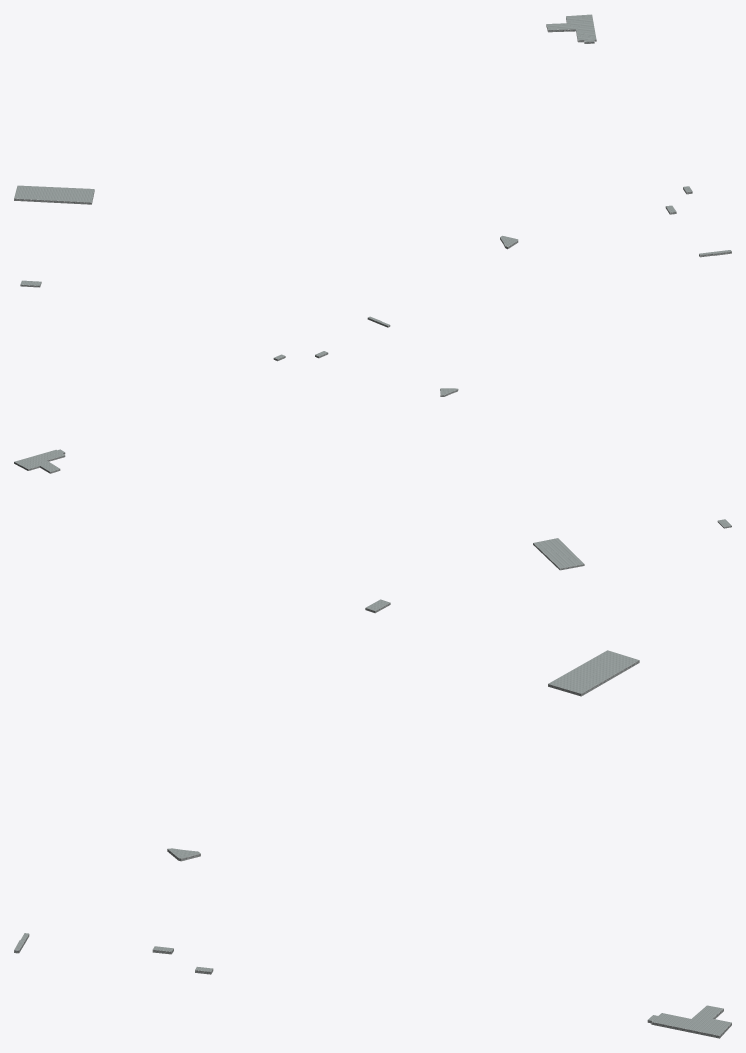
3 renders of one model, top to bottom at view 1: azimuth 30°, elevation 25°; view 2: azimuth 150°, elevation 25°; view 3: azimuth 270°, elevation 25°, orthographic. The views are drawn at different scales.
Visible parts, largest first — view 1: SheetRoof, ServiceWall; view 2: SheetRoof, ServiceWall; view 3: SheetRoof, ServiceWall.
Boxes of the visible parts, left/top/right/bottom form: SheetRoof: left=14, top=14, right=731, bottom=285; ServiceWall: left=14, top=18, right=731, bottom=287; SheetRoof: left=14, top=316, right=731, bottom=568; ServiceWall: left=14, top=318, right=731, bottom=570; SheetRoof: left=14, top=599, right=731, bottom=1035; ServiceWall: left=14, top=602, right=731, bottom=1038.
Size of the model in its own units: 1722 by 5.23 by 1195.
3 materials, 2 textured.
